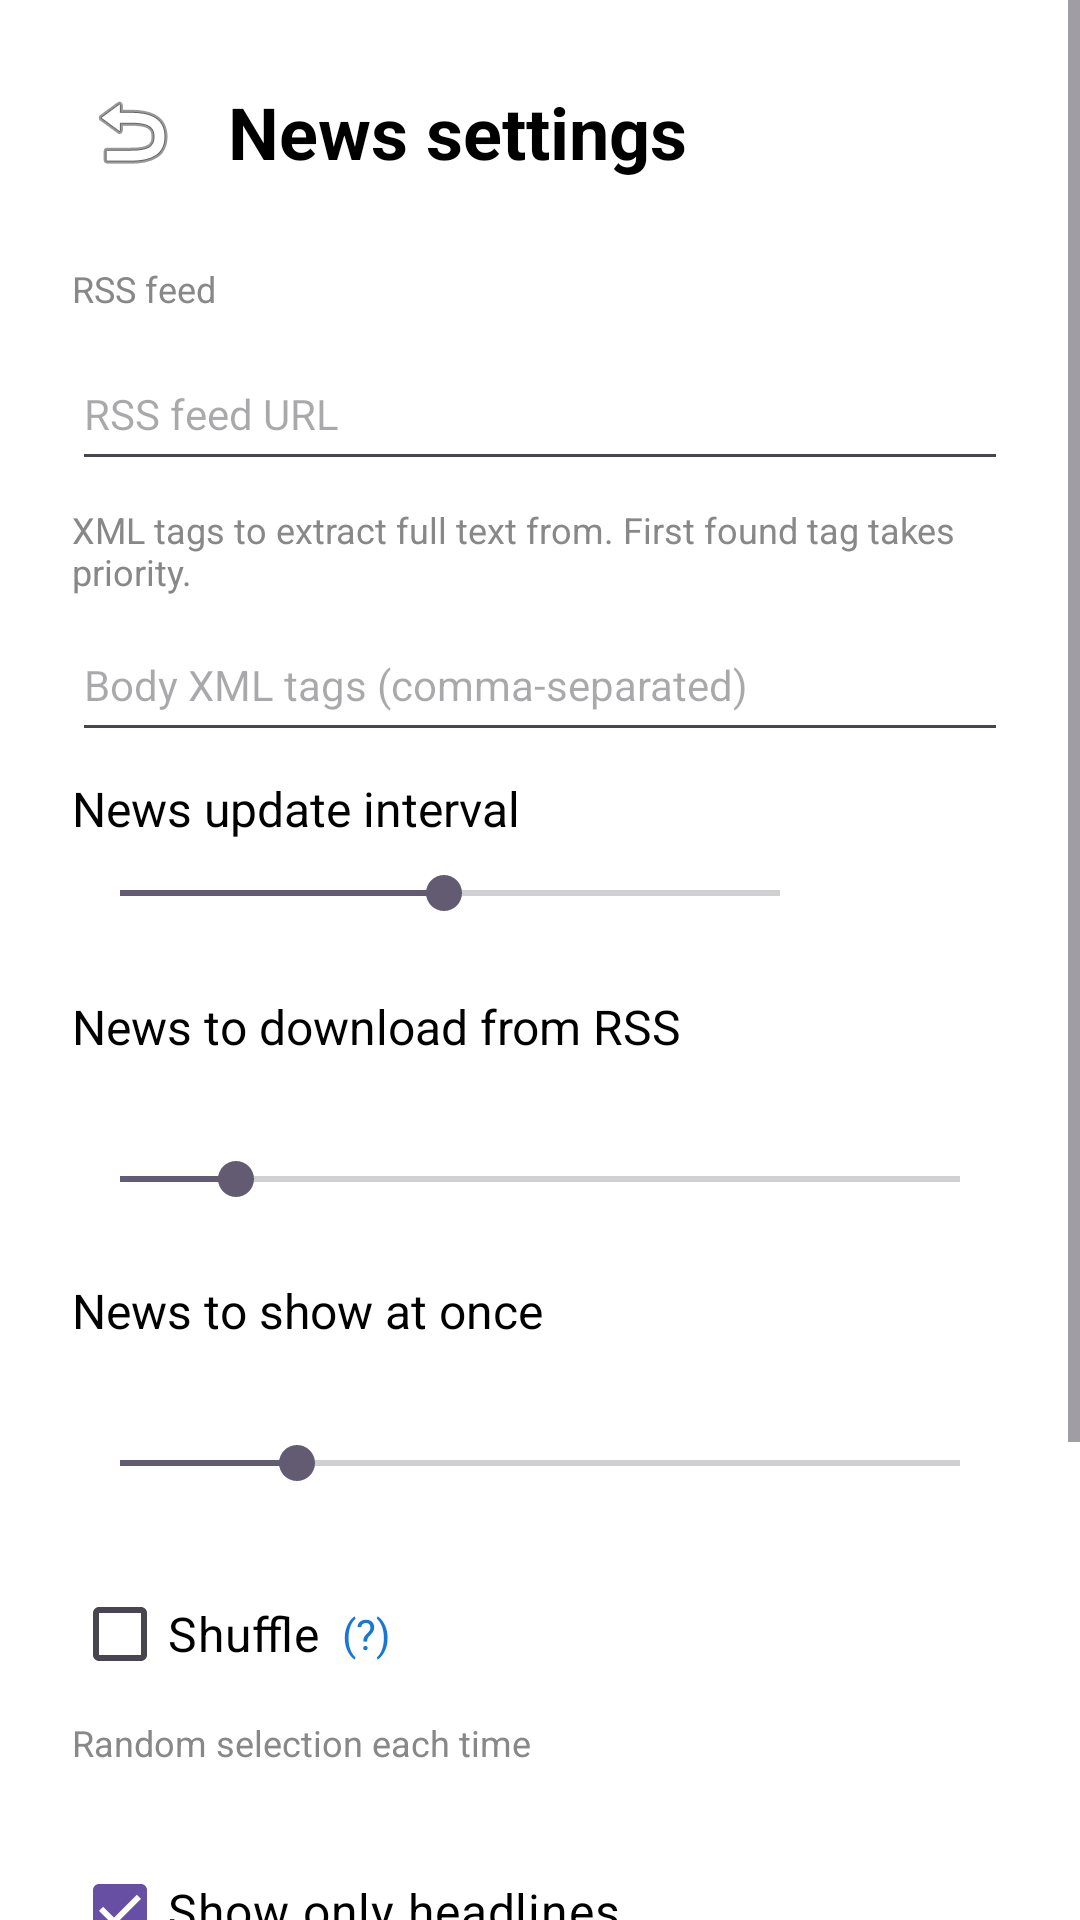

Icons on this 1080 × 1920 Android screen, each with the point to tap as (x,y):
Back: (133,132)
